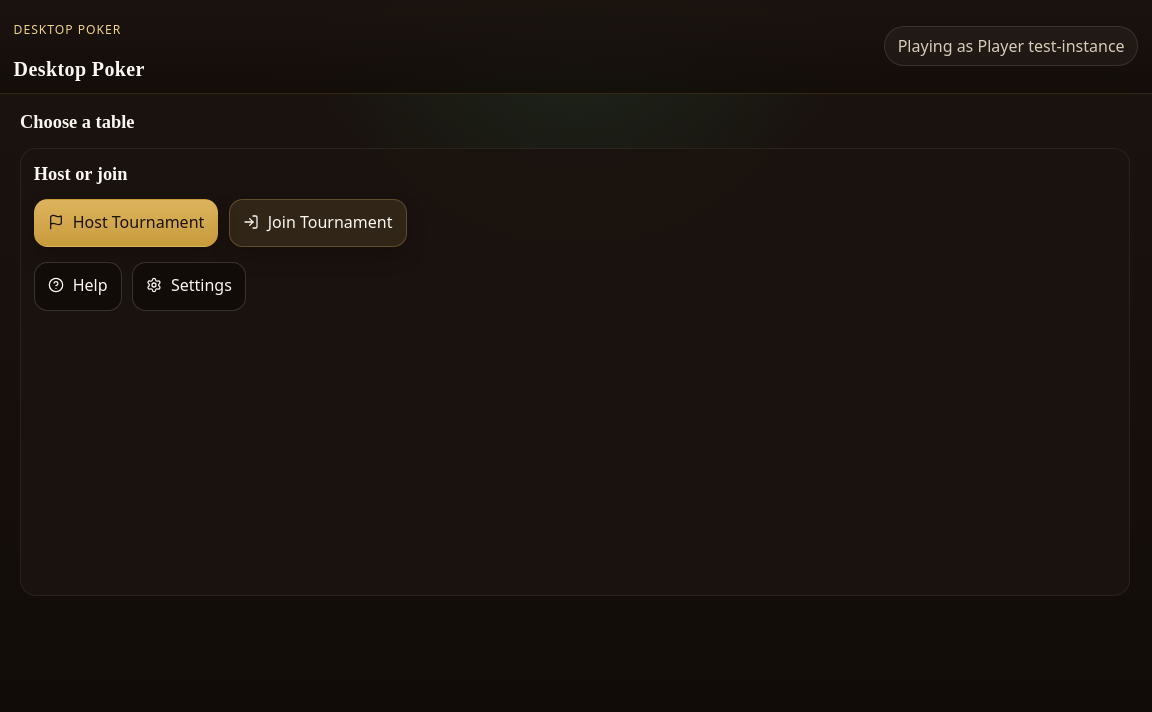
AppShell integration (host and lobby) › hosts a table with one human and one NPC and shows both seats in the lobby
This screenshot has width=1152, height=712.
Expected: the heading "Choose a table" is shown, [20,109,134,136]
Click the link "Host Tournament" at [126, 223], box [34,198,218,247]
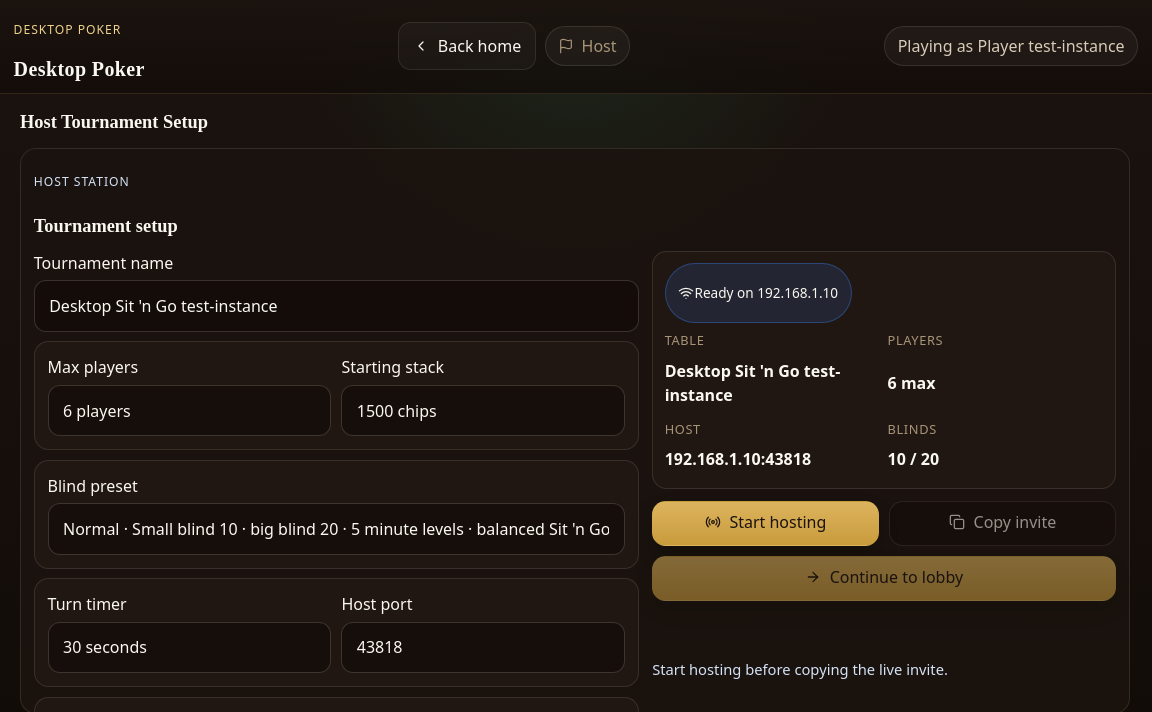
Expected: the heading "Host Tournament Setup" is shown, [20,109,208,136]
Replace the text in the field labelled "Tournament name" with "Heads-Up vs Bot" at [336, 306], box [34,280,639,332]
(page scrolled)
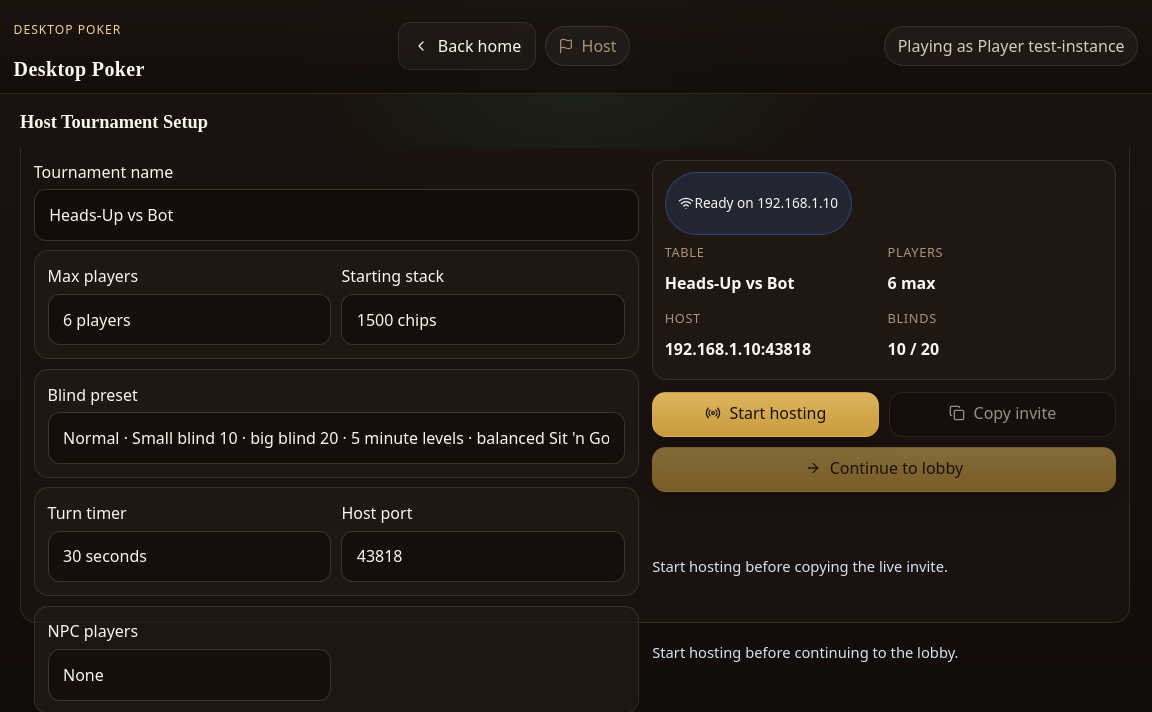
Compose a "1 human (host) + 1 NPC" table.
Select "1 bot" in the dropdown labelled "NPC players" at [189, 675], box [48,649,331,701]
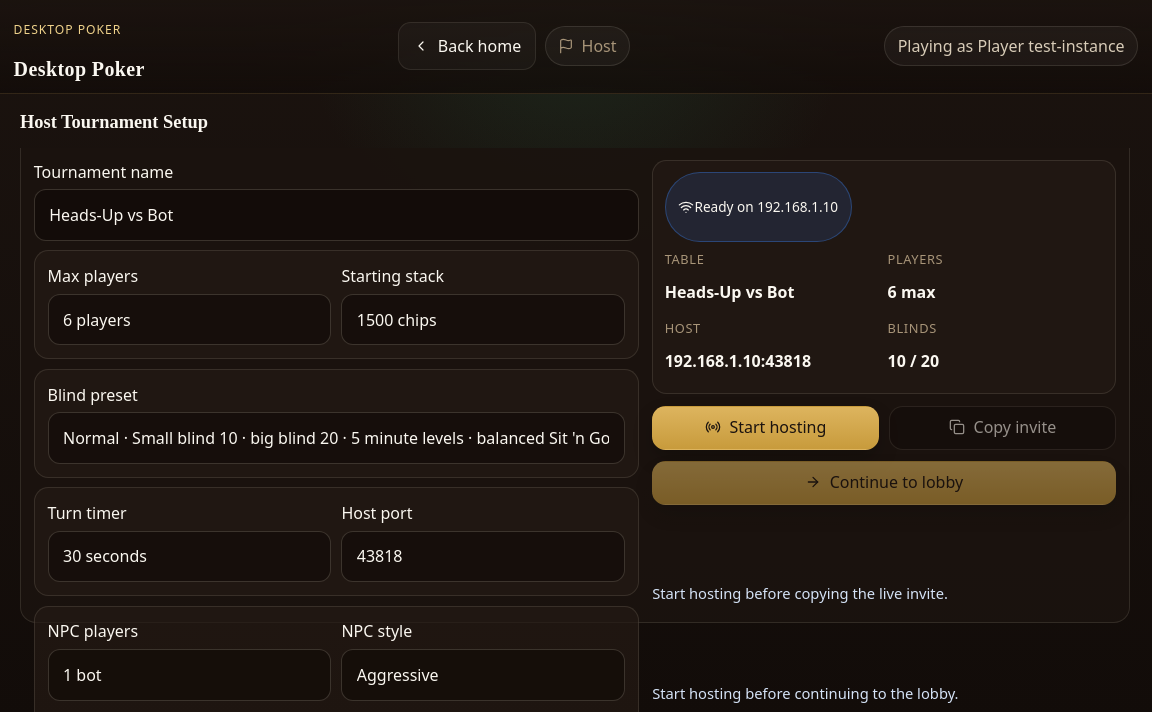
Click the button "Start hosting" at [766, 428], box [652,406,879,450]
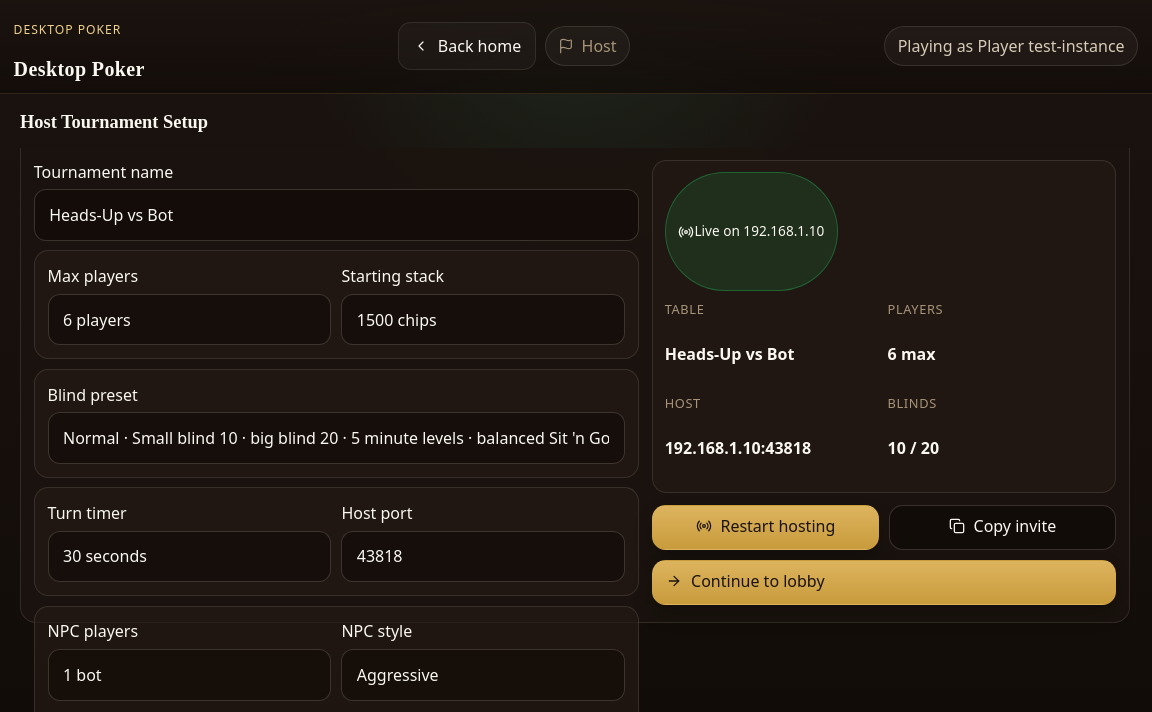
Click the link "Continue to lobby" at [758, 581], box [652,560,1116,604]
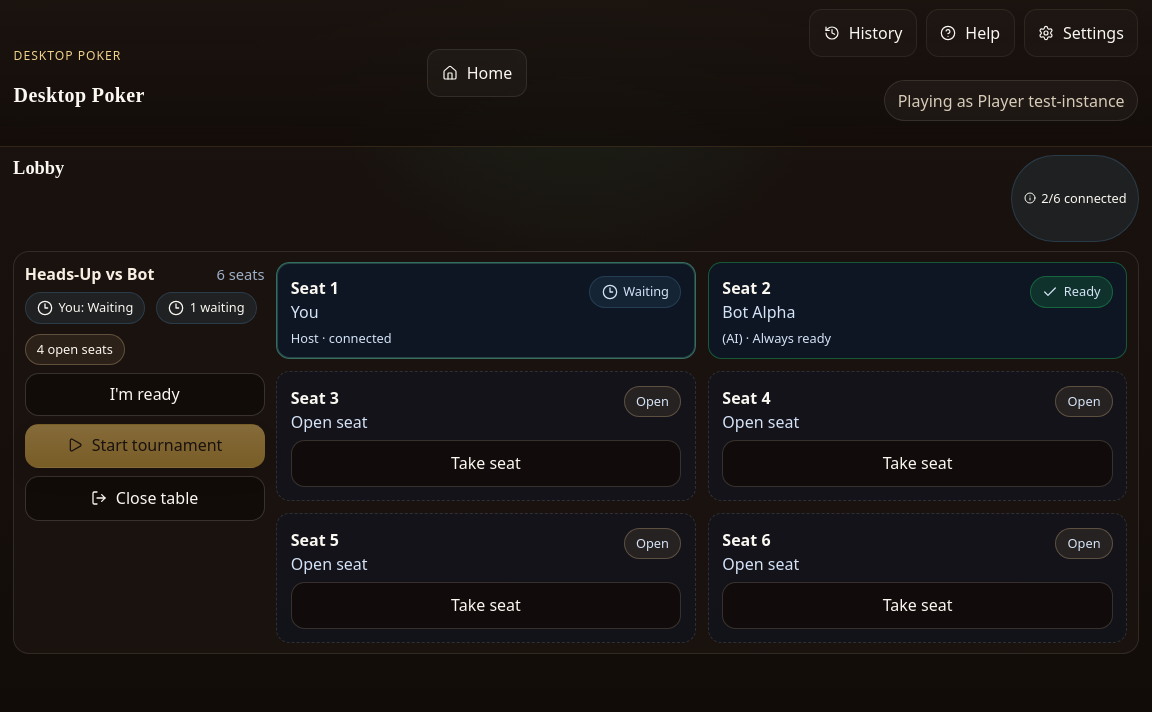
Expected: the heading "Lobby" is shown, [13,158,64,178]
Expected: the text "You" is shown, [291,301,319,323]
Expected: the text "Bot Alpha" is shown, [722,301,795,323]
